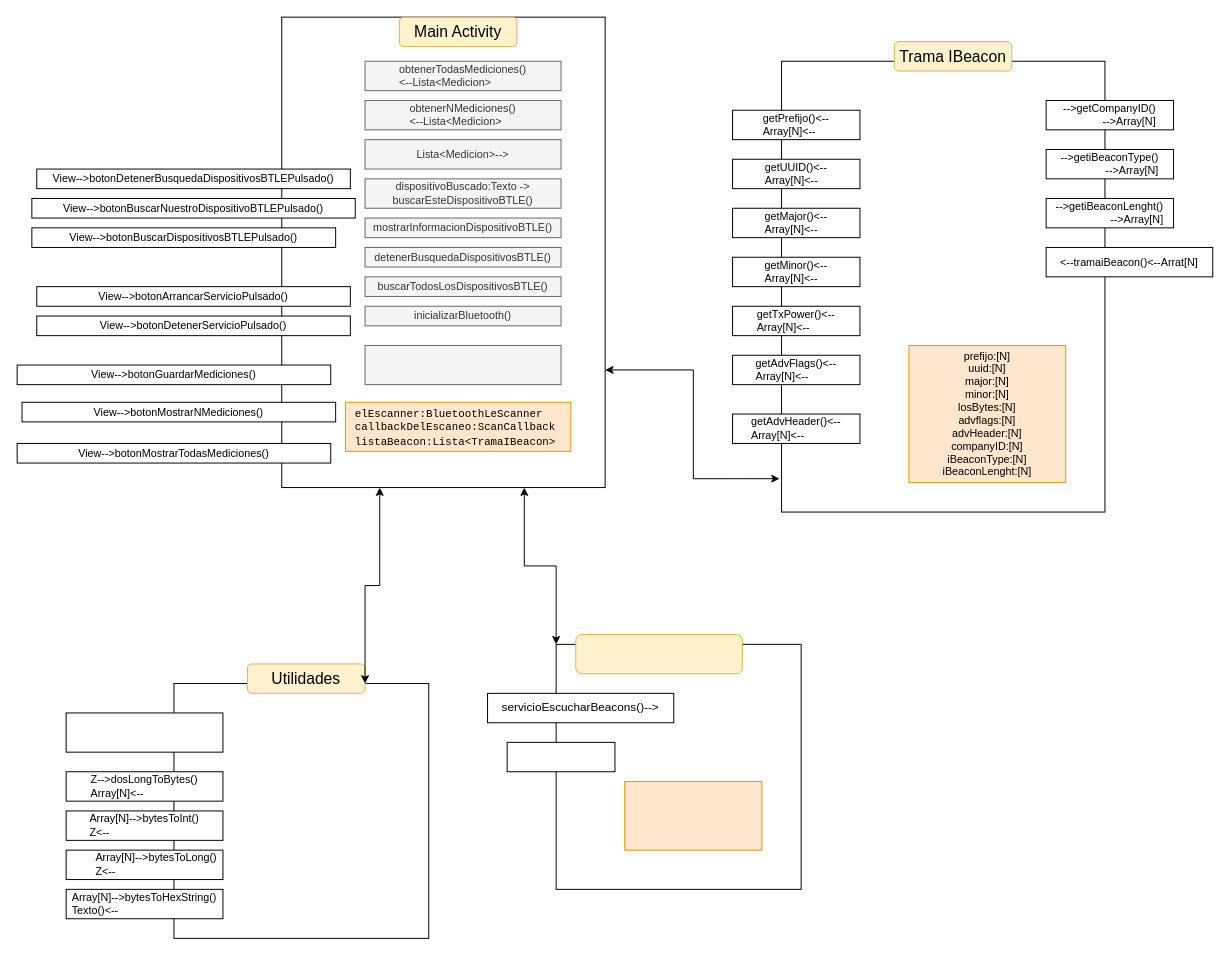
Some shapes in this 1230 by 956 pixel diagram are drawn without their labels. The centre of each missing label's shape, as x and y in pixels:
Array[N]-->bytesToString() Texto<--: point (144, 732)
parar()-->: point (560, 756)
resultado:Texto -> mostrarInformacionDispositivosBTLE(): point (462, 364)
Servicio EscucharBeacons: point (658, 654)
tiempoDeEspera:Z seguir:VoF: point (693, 815)
